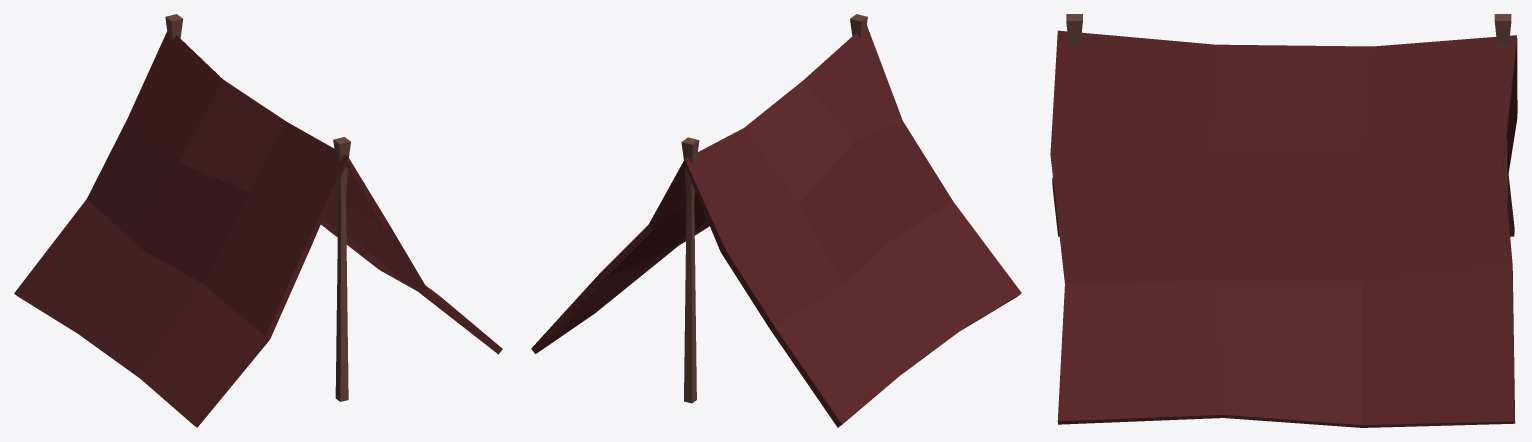
The model's file is tent.fbx.
3 views of the same model, side by side, from view 1: azimuth 30°, elevation 25°; view 2: azimuth 150°, elevation 25°; view 3: azimuth 270°, elevation 25° (orthographic). The views are drawn at different scales.
Parts seen in each view (by area): view 1: tent; view 2: tent; view 3: tent.
Boxes of the visible parts, box(x1,y1,x2,y2) form: tent: box(14, 14, 502, 427); tent: box(531, 14, 1021, 427); tent: box(1050, 14, 1517, 427).
Size of the model in its own units: 201 by 159 by 204.
